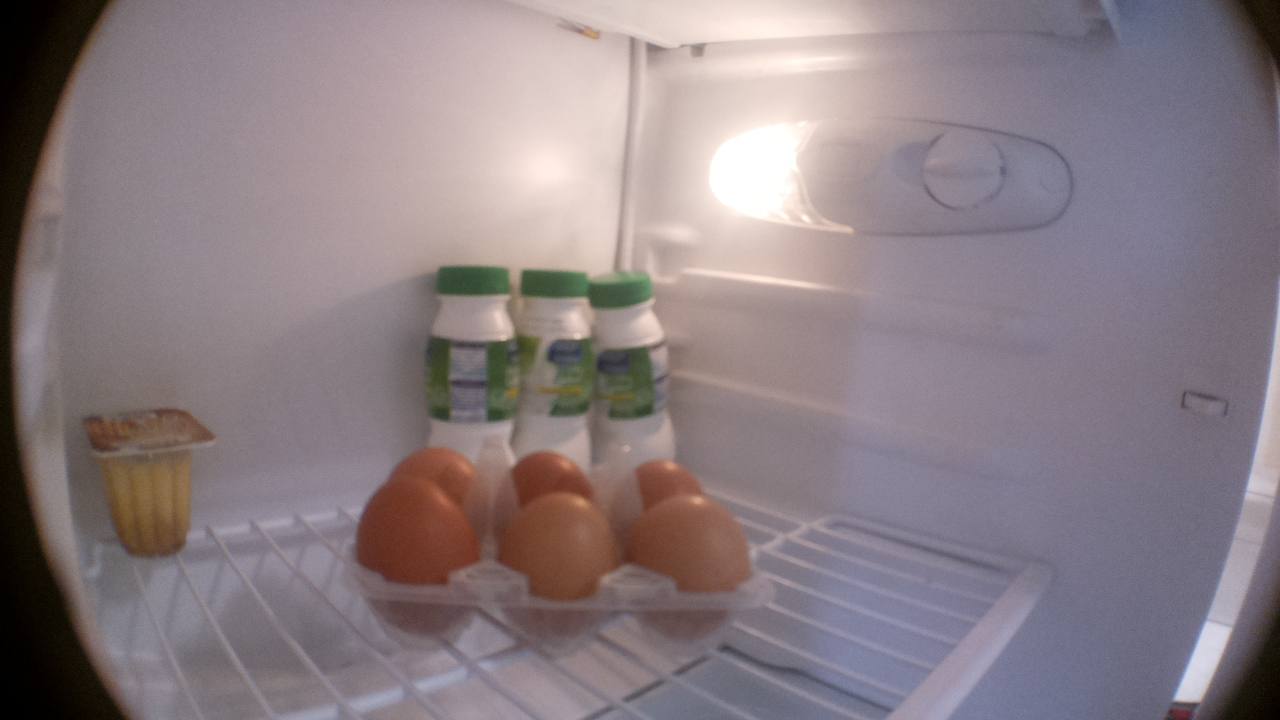caramel: (78, 407, 213, 564)
egg: (352, 474, 471, 657), (627, 494, 760, 648), (502, 491, 614, 641), (499, 446, 592, 493), (629, 460, 725, 495), (386, 450, 476, 473)
laban: (419, 264, 518, 448), (583, 266, 668, 455), (514, 263, 591, 445)
